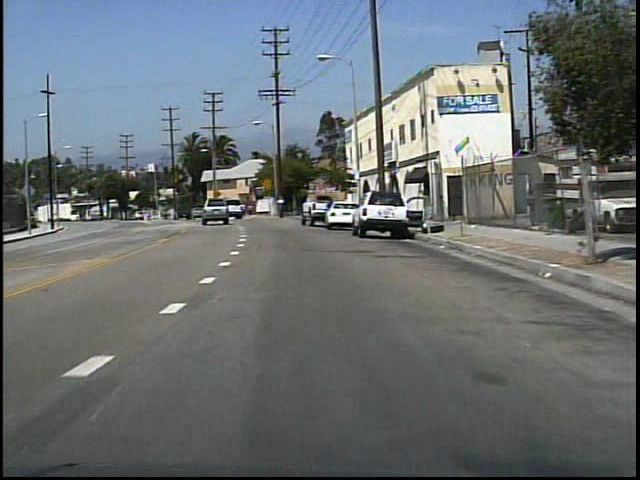person: (246, 201, 256, 219)
